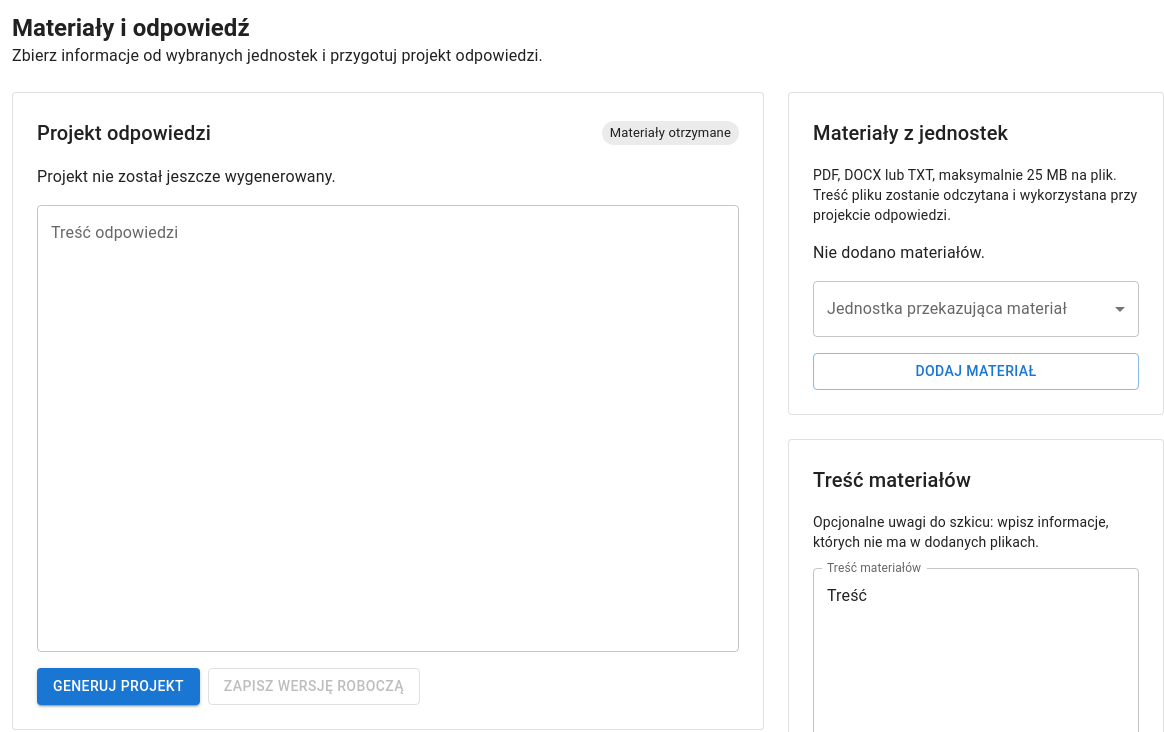
MaterialsPage › shows a message when the AI is not configured
Click the button "Generuj projekt": x=118, y=686 [37,668,200,704]
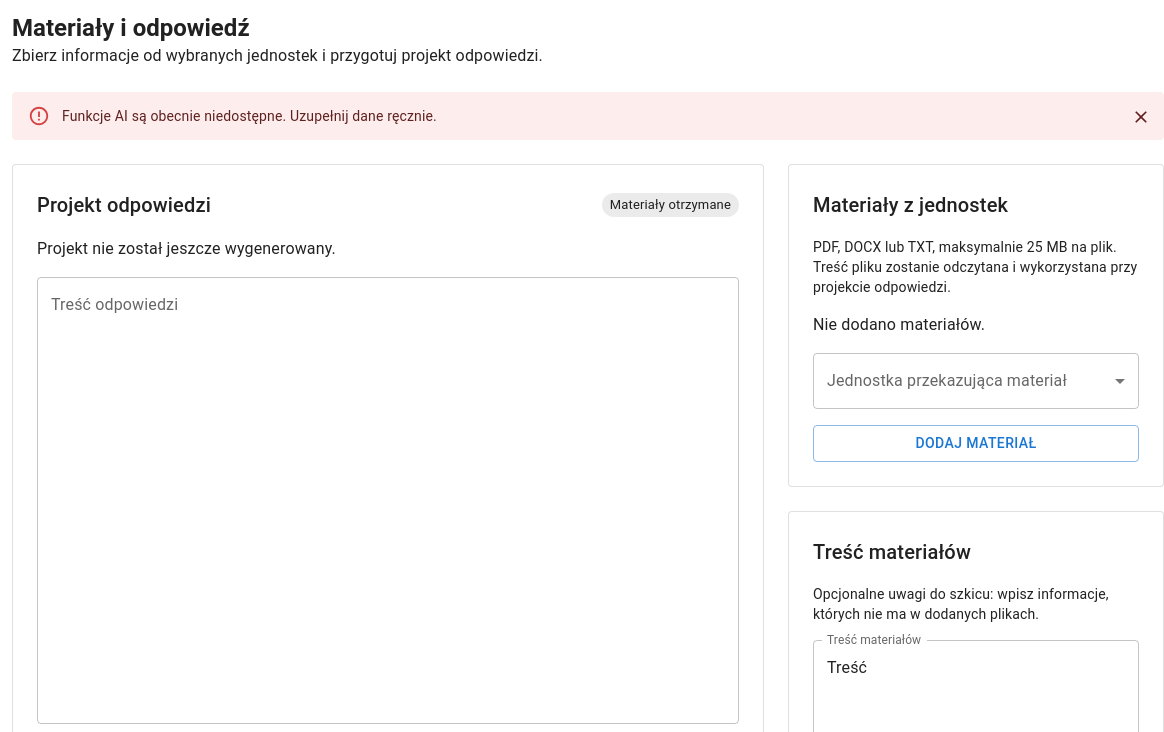
expect the text "Funkcje AI są obecnie niedostępne. Uzupełnij dane ręcznie." is shown: met, box [62,108,437,124]
